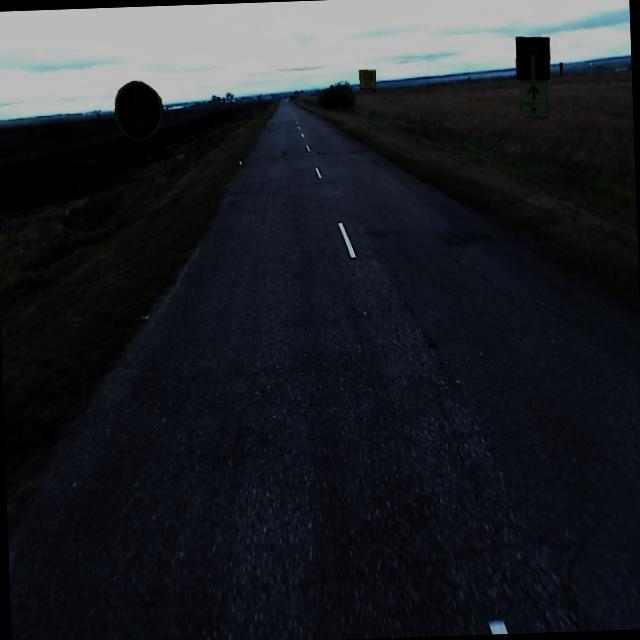road: (7, 99, 640, 640)
